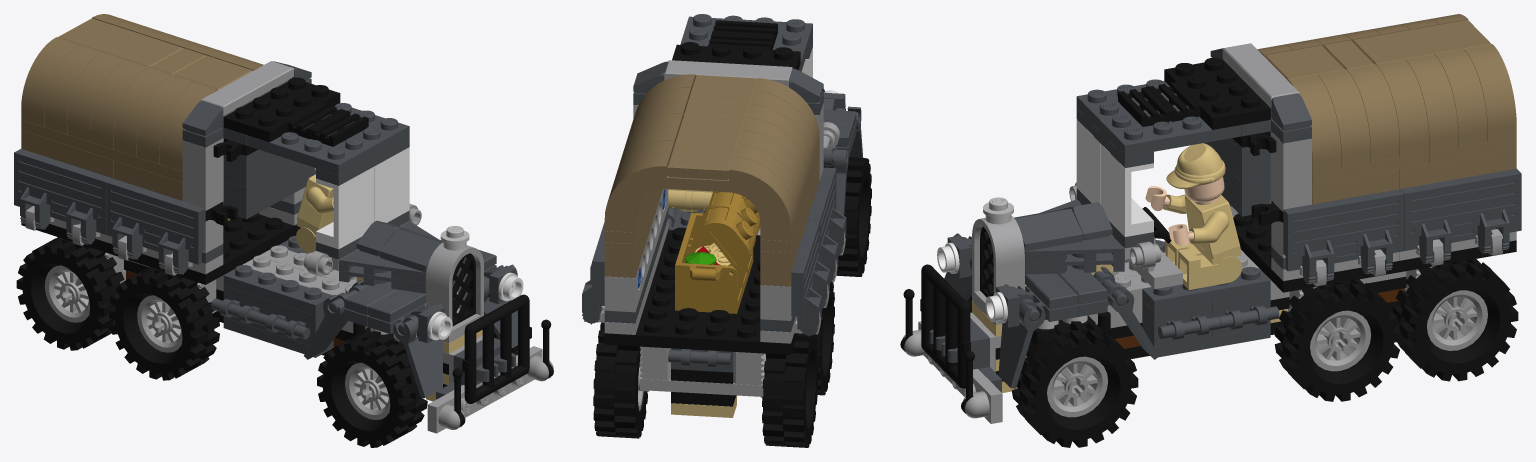
Rendered from Car1.fbx.
3 views of the same model, side by side, from view 1: azimuth 30°, elevation 25°; view 2: azimuth 150°, elevation 25°; view 3: azimuth 270°, elevation 25° (orthographic). The views are drawn at different scales.
Visible parts, largest first — view 1: part.056, part.057, part.058, part.221, part.222, part.120, part.213, part.125, part.100, part.194, part.218, part.084 (+58 smaller); view 2: part.125, part.058, part.060, part.049, part.218, part.212, part.206, part.050, part.222, part.056, part.221, part.100 (+51 smaller); view 3: part.055, part.059, part.060, part.219, part.220, part.120, part.100, part.213, part.125, part.218, part.084, part.202 (+59 smaller).
Boxes of the visible parts, x1,y1,x2,y2 form: part.056: (317,331,427,447); part.057: (109,267,219,380); part.058: (16,237,124,350); part.221: (106,178,205,274); part.222: (14,148,112,244); part.120: (246,103,409,175); part.213: (462,294,531,403); part.125: (21,213,300,284); part.100: (223,77,340,142); part.194: (316,167,373,249); part.218: (57,18,183,67); part.084: (426,242,483,343); part.125: (604,227,797,354); part.058: (762,333,818,447); part.060: (593,322,647,438); part.049: (675,212,753,313); part.218: (667,114,744,180); part.212: (698,157,794,241); part.206: (604,153,697,232); part.050: (702,191,760,274); part.222: (791,220,829,336); part.056: (823,157,871,276); part.221: (807,167,846,282); part.100: (672,42,800,69); part.055: (1011,321,1138,447); part.059: (1274,279,1401,401); part.060: (1392,259,1518,381); part.219: (1283,189,1404,284); part.220: (1400,168,1521,263); part.120: (1076,79,1241,156); part.100: (1164,57,1270,129); part.213: (920,264,970,388); part.125: (1233,213,1516,292); part.218: (1352,20,1490,64); part.084: (972,215,1024,325); part.202: (1346,64,1399,162).
Size of the model in its own units: 1044 by 831 by 1574.
